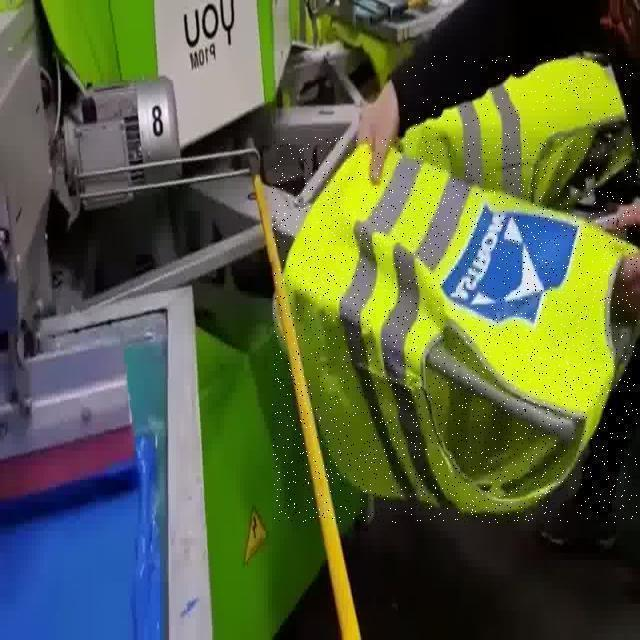safety_vest: (272, 137, 638, 524), (404, 54, 635, 204)
